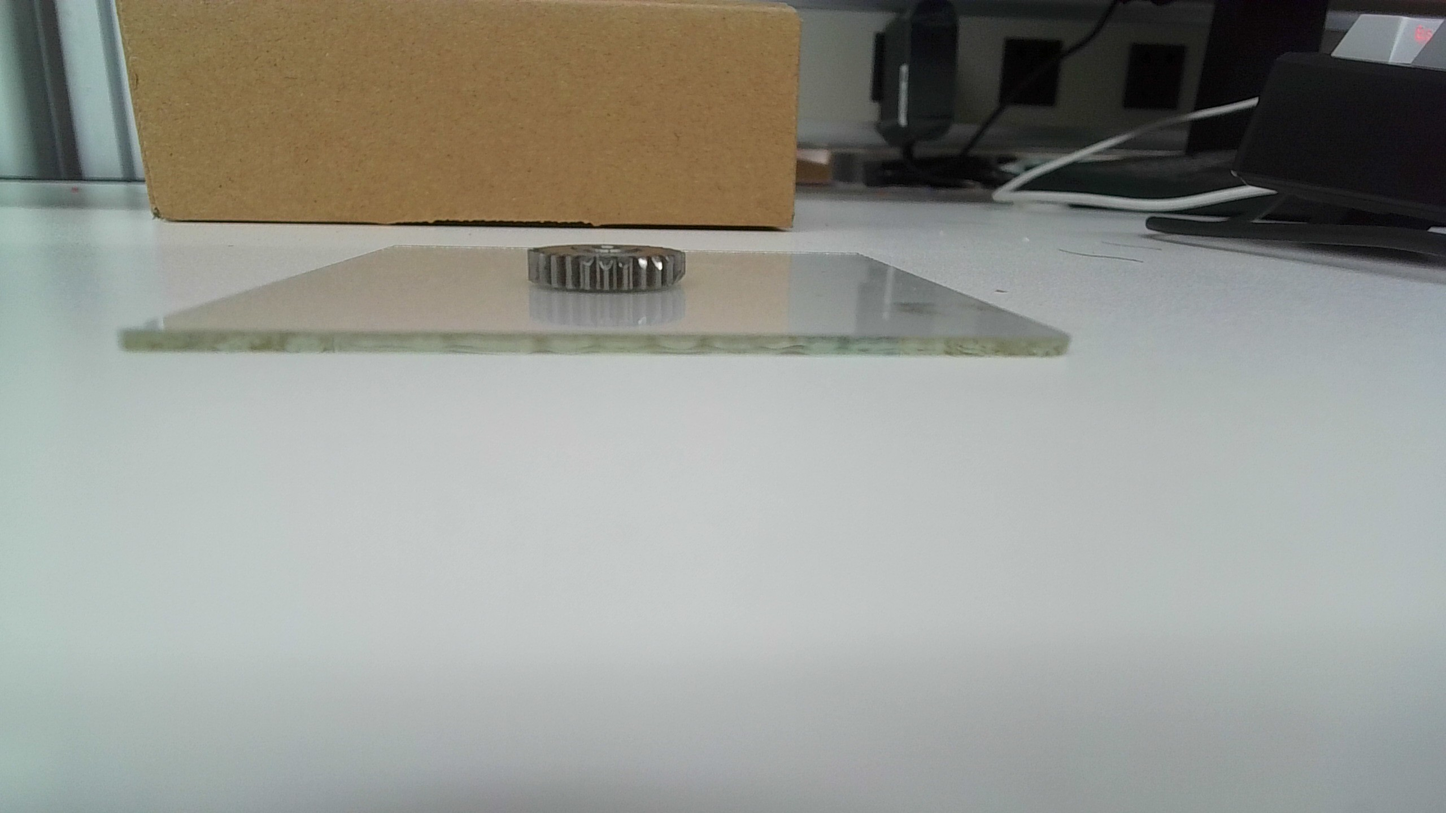gear: (525, 242, 690, 296)
